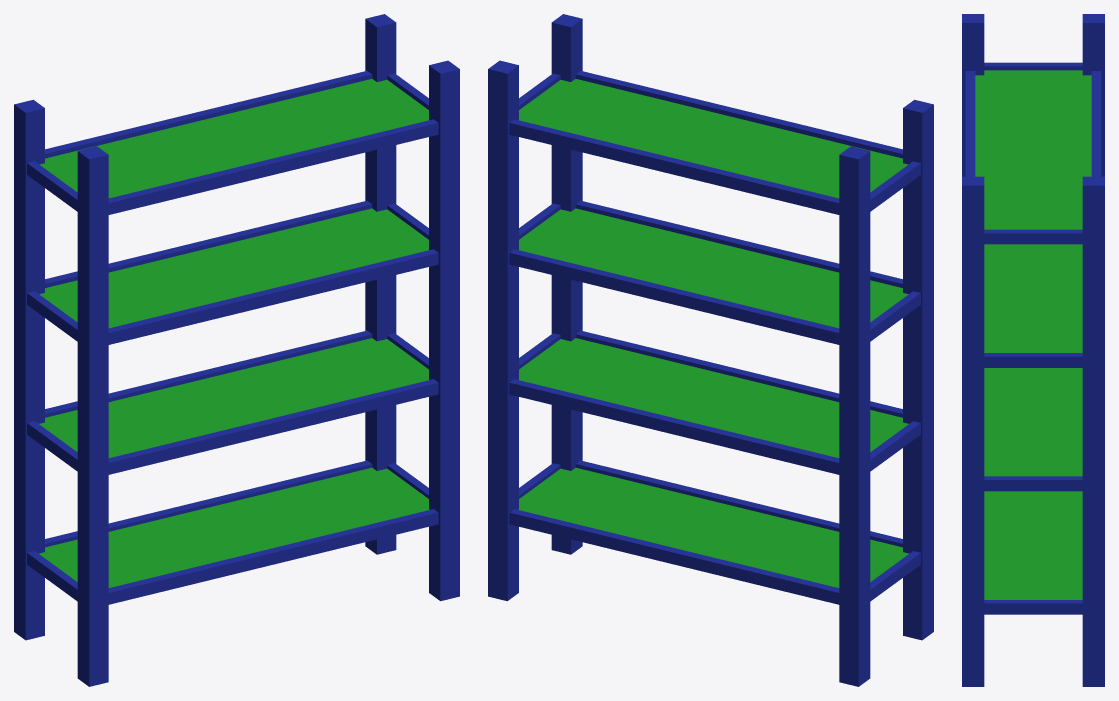
The model's file is Shelf_Basement_low.fbx.
3 views of the same model, side by side, from view 1: azimuth 30°, elevation 25°; view 2: azimuth 150°, elevation 25°; view 3: azimuth 270°, elevation 25° (orthographic). The views are drawn at different scales.
Visible parts, largest first — view 1: ShelfBasement_low; view 2: ShelfBasement_low; view 3: ShelfBasement_low.
Boxes of the visible parts, <box> form: ShelfBasement_low: <box>14,14,459,686</box>; ShelfBasement_low: <box>488,14,933,686</box>; ShelfBasement_low: <box>962,14,1104,686</box>.
Size of the model in its own units: 1.97 by 2.68 by 0.6924.
